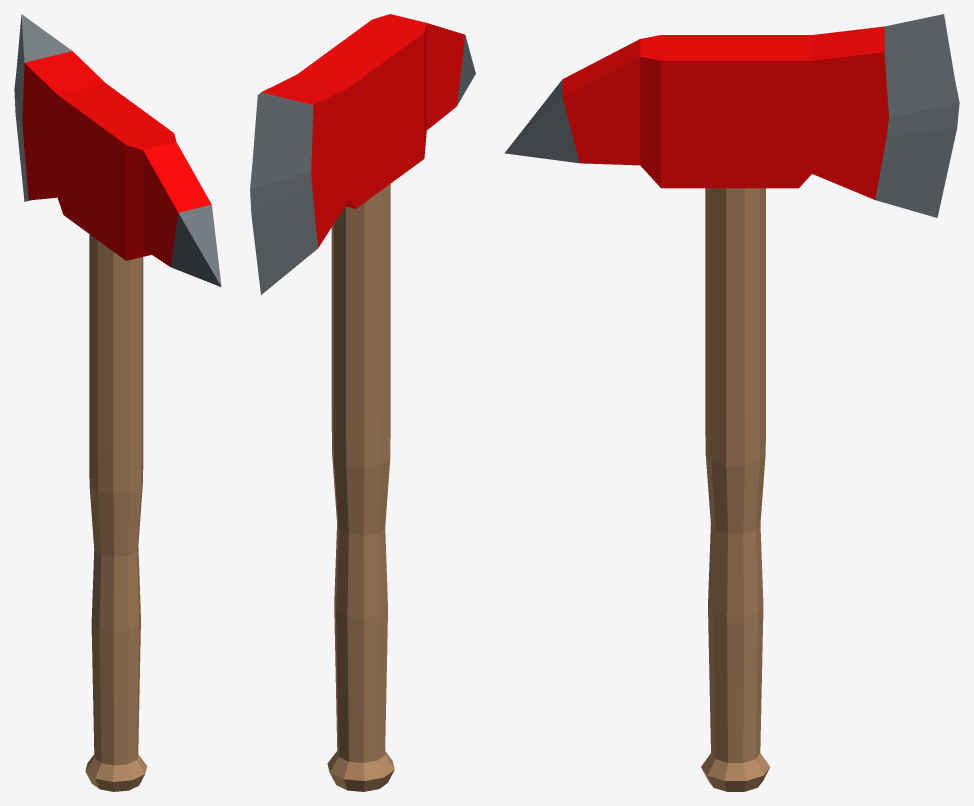
File: Wood Axe.fbx
3 renders of one model, left to right at view 1: azimuth 30°, elevation 25°; view 2: azimuth 150°, elevation 25°; view 3: azimuth 270°, elevation 25°, orthographic. The views are drawn at different scales.
Parts seen in each view (by area): view 1: Cube; view 2: Cube; view 3: Cube.
Boxes of the visible parts, x1=… form: Cube: x1=14, y1=14, x2=221, y2=791; Cube: x1=250, y1=14, x2=475, y2=791; Cube: x1=505, y1=14, x2=959, y2=791.
Bounding box in the file's own units: 6.29 × 80.61 × 43.37.
